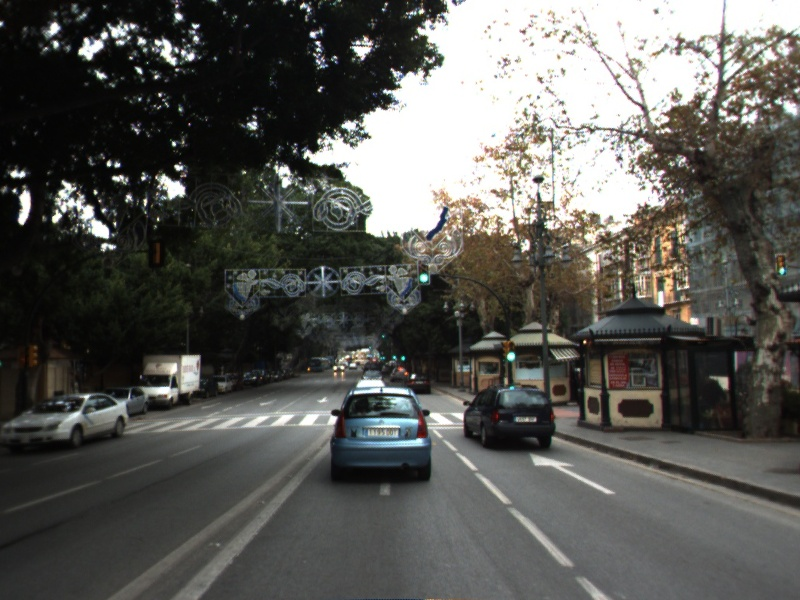STRAIGHT: (527, 450, 618, 496)
